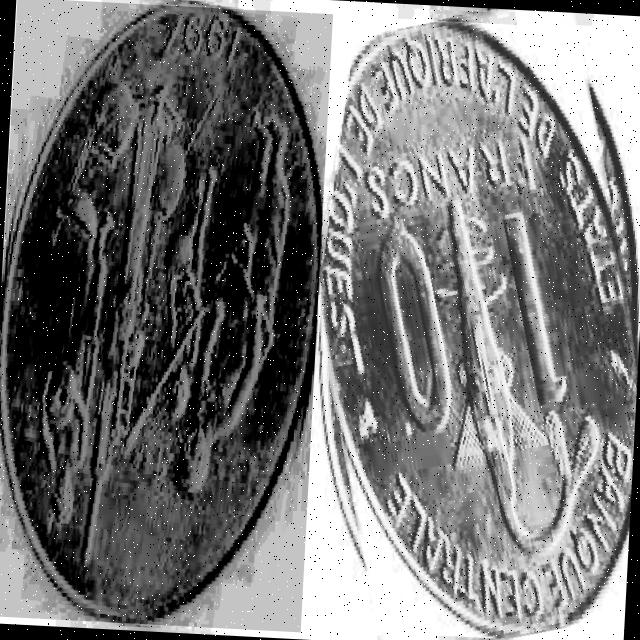niaari derem: (316, 21, 640, 638), (0, 8, 320, 621)
